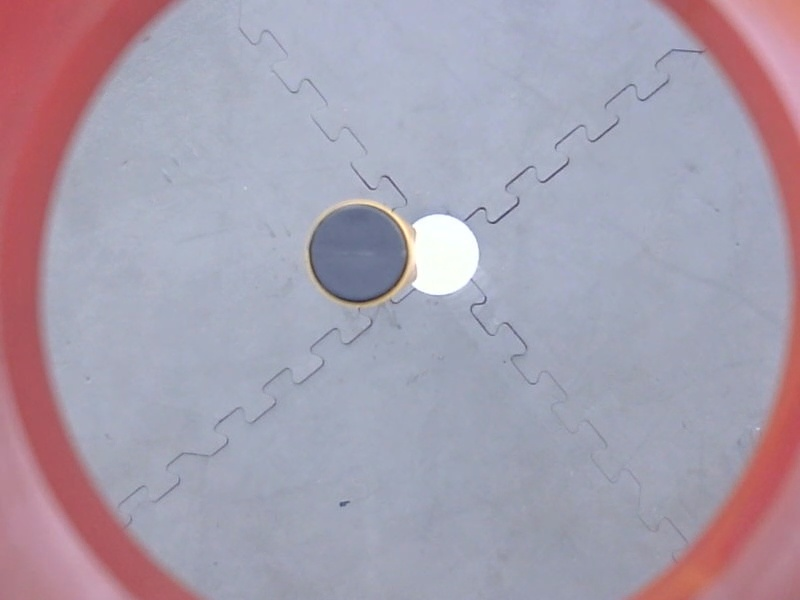tip: (302, 197, 416, 310)
